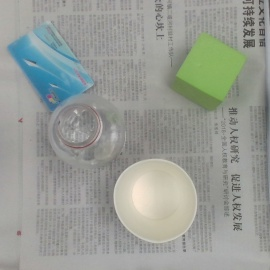bottle: (50, 93, 126, 170)
card: (7, 21, 96, 111)
cup: (113, 159, 198, 245)
